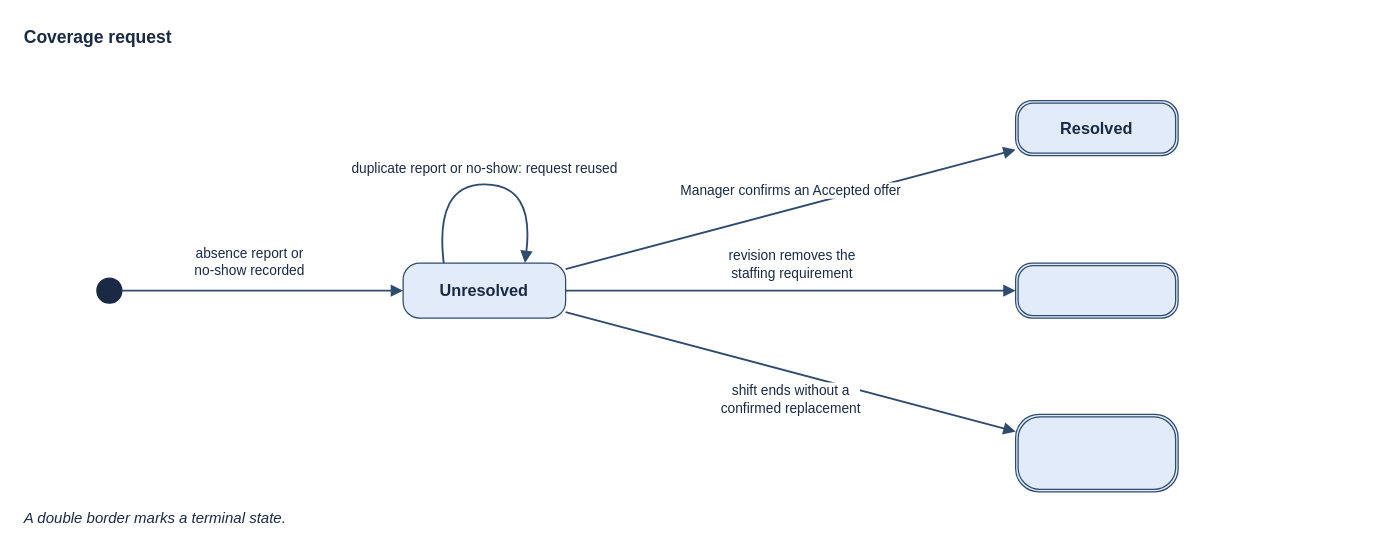
The diagram is 1393 pixels wide and 553 high, and some of its shapes have lost their labels. The shapes that lost their labels are listed below. From the top down, each one's centre as x and y in pixels, then its label:
(1096,290): Cancelled
(1096,452): Unresolved at Shift End
